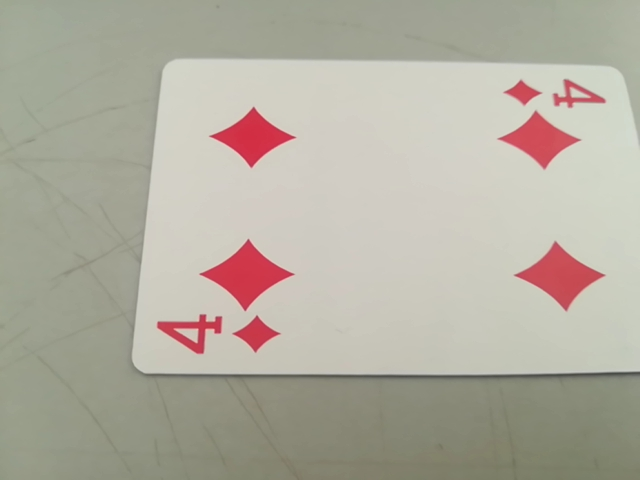fk 4: (150, 306, 284, 372), (505, 72, 611, 114)
